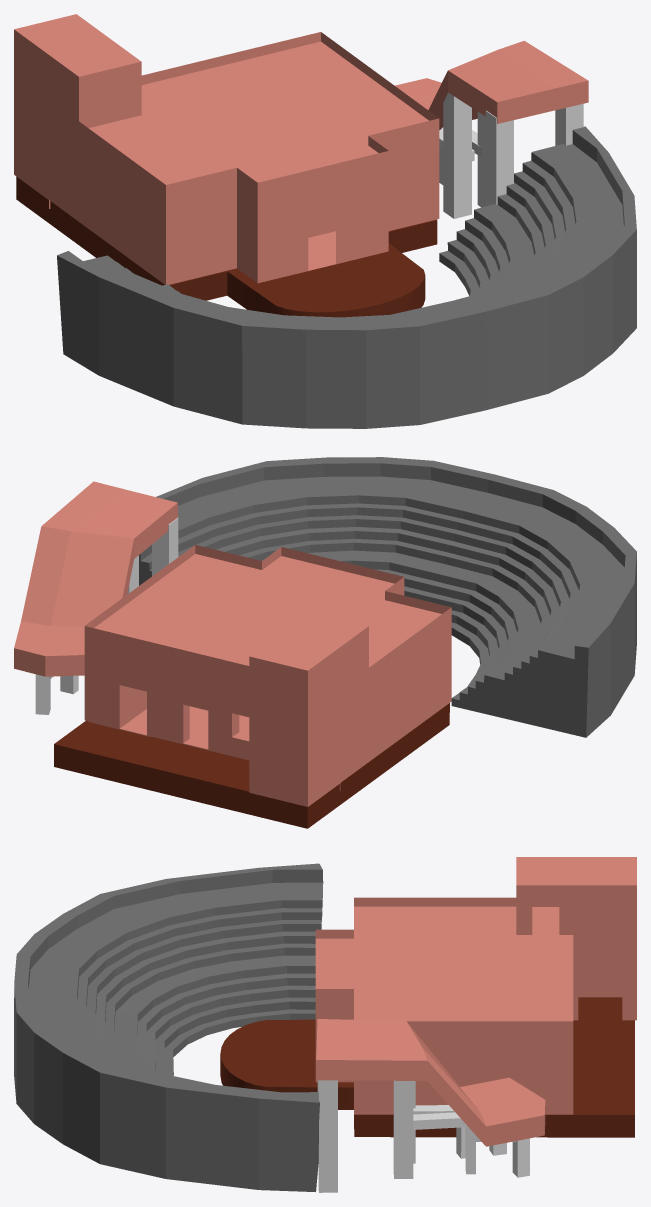
The model's file is oat.fbx.
3 renders of one model, top to bottom at view 1: azimuth 30°, elevation 25°; view 2: azimuth 150°, elevation 25°; view 3: azimuth 270°, elevation 25°, orthographic. The views are drawn at different scales.
Parts seen in each view (by area): view 1: Plane, Cube, Cylinder, Cube.006, Cube.007, Cube.011, Cube.009, Cube.008, Cube.010; view 2: Plane, Cube, Cube.007, Cube.006, Cylinder, Cube.009, Cube.012; view 3: Plane, Cube, Cylinder, Cube.006, Cube.007, Cube.008, Cube.010, Cube.014, Cube.012, Cube.016.
Part boxes in pixels (left/top/right/bottom): Plane: left=57, top=126, right=636, bottom=428; Cube: left=47, top=32, right=439, bottom=284; Cylinder: left=16, top=176, right=437, bottom=317; Cube.006: left=14, top=14, right=141, bottom=208; Cube.007: left=395, top=40, right=588, bottom=129; Cube.011: left=443, top=92, right=471, bottom=218; Cube.009: left=485, top=110, right=513, bottom=206; Cube.008: left=555, top=103, right=583, bottom=145; Cube.010: left=477, top=112, right=485, bottom=207; Plane: left=139, top=457, right=636, bottom=737; Cube: left=84, top=545, right=451, bottom=782; Cube.007: left=14, top=481, right=177, bottom=676; Cube.006: left=249, top=612, right=368, bottom=806; Cylinder: left=54, top=703, right=449, bottom=828; Cube.009: left=152, top=518, right=178, bottom=576; Cube.012: left=35, top=674, right=50, bottom=714; Plane: left=14, top=863, right=323, bottom=1191; Cube: left=315, top=897, right=573, bottom=1114; Cylinder: left=220, top=997, right=634, bottom=1137; Cube.006: left=516, top=857, right=636, bottom=1020; Cube.007: left=316, top=1019, right=545, bottom=1146; Cube.008: left=318, top=1080, right=337, bottom=1192; Cube.010: left=393, top=1080, right=413, bottom=1178; Cube.014: left=413, top=1112, right=467, bottom=1129; Cube.012: left=512, top=1138, right=529, bottom=1177; Cube.016: left=465, top=1127, right=475, bottom=1174.
Size of the model in its own units: 4230 by 1324 by 4644.
